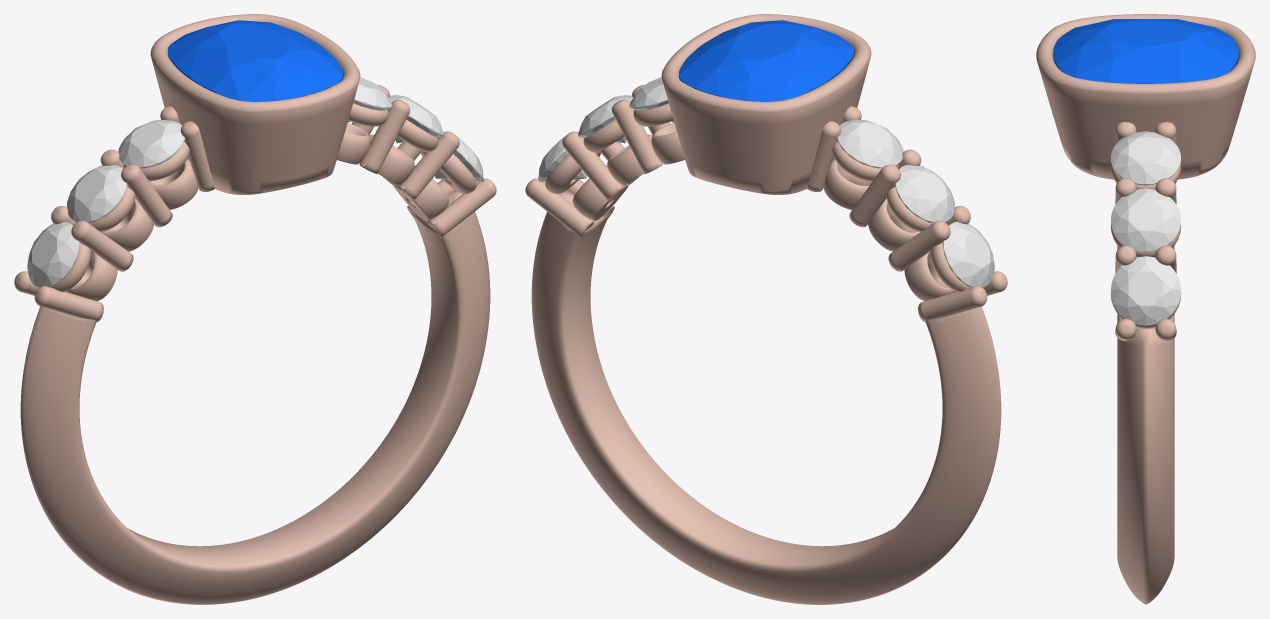
Rendered from bluesapphire-cushion-rosegold-bezelset-knifeedge-7stone.glb.
3 renders of one model, left to right at view 1: azimuth 30°, elevation 25°; view 2: azimuth 150°, elevation 25°; view 3: azimuth 270°, elevation 25°, orthographic.
Visible parts, largest first — view 1: metal.002, stone, side.001, side.002, side.003, side.005, side.004, side.006; view 2: metal.002, stone, side.001, side.002, side.003, side.005, side.004, side.006; view 3: metal.002, stone, side.006, side.005, side.004.
Part boxes in pixels (bbox=[...]): metal.002: bbox=[14, 14, 496, 604]; stone: bbox=[168, 20, 342, 101]; side.001: bbox=[27, 221, 79, 287]; side.002: bbox=[67, 165, 127, 222]; side.003: bbox=[118, 120, 184, 168]; side.005: bbox=[388, 95, 443, 143]; side.004: bbox=[348, 77, 392, 122]; side.006: bbox=[435, 131, 483, 181]; metal.002: bbox=[525, 14, 1007, 604]; stone: bbox=[679, 20, 853, 101]; side.001: bbox=[942, 221, 994, 287]; side.002: bbox=[894, 165, 954, 222]; side.003: bbox=[837, 120, 903, 168]; side.005: bbox=[578, 95, 633, 143]; side.004: bbox=[629, 77, 673, 122]; side.006: bbox=[538, 131, 586, 181]; metal.002: bbox=[1036, 14, 1255, 604]; stone: bbox=[1053, 19, 1238, 83]; side.006: bbox=[1111, 256, 1180, 325]; side.005: bbox=[1111, 188, 1180, 252]; side.004: bbox=[1111, 131, 1180, 185].
Size of the model in its own units: 20.5 by 23.24 by 8.45.
